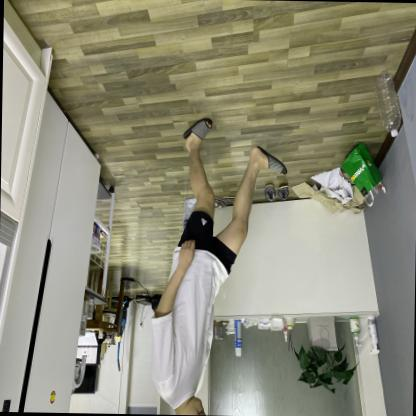no_safety-shoe: (182, 101, 224, 150), (245, 145, 291, 182)
